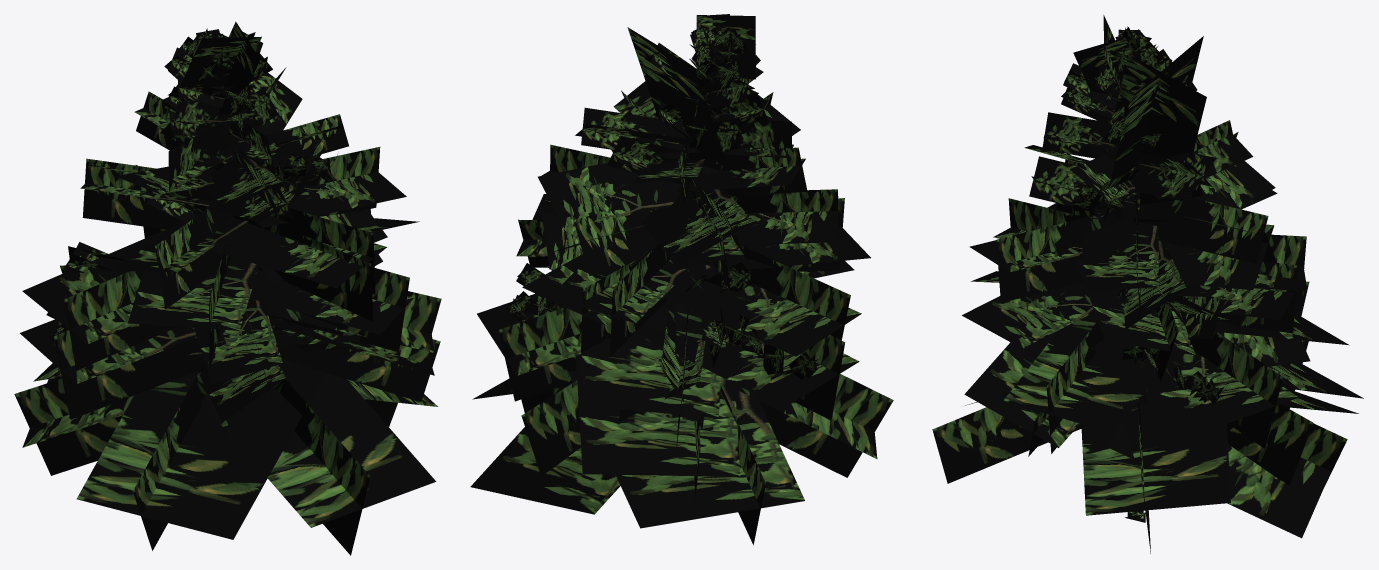
The model's file is camphor.glb.
3 renders of one model, left to right at view 1: azimuth 30°, elevation 25°; view 2: azimuth 150°, elevation 25°; view 3: azimuth 270°, elevation 25°, orthographic. The views are drawn at different scales.
Visible parts, largest first — view 1: 2_Leaves, 3_Leaves; view 2: 2_Leaves, 3_Leaves; view 3: 2_Leaves, 3_Leaves.
Part boxes in pixels (x1,y1,x2,y2): 2_Leaves: [14, 21, 441, 555]; 3_Leaves: [46, 28, 382, 360]; 2_Leaves: [470, 14, 893, 545]; 3_Leaves: [506, 25, 818, 379]; 2_Leaves: [932, 15, 1363, 553]; 3_Leaves: [1029, 26, 1224, 404].
Size of the model in its own units: 366 by 483 by 403.
2 materials, 2 textured.
